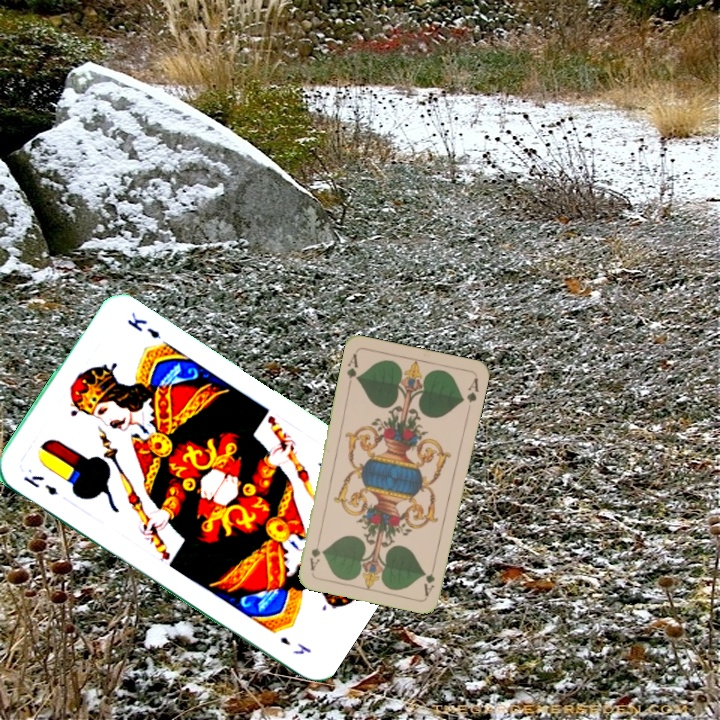EK: (20, 471, 61, 498)
GA: (343, 349, 361, 389), (420, 559, 438, 599)
